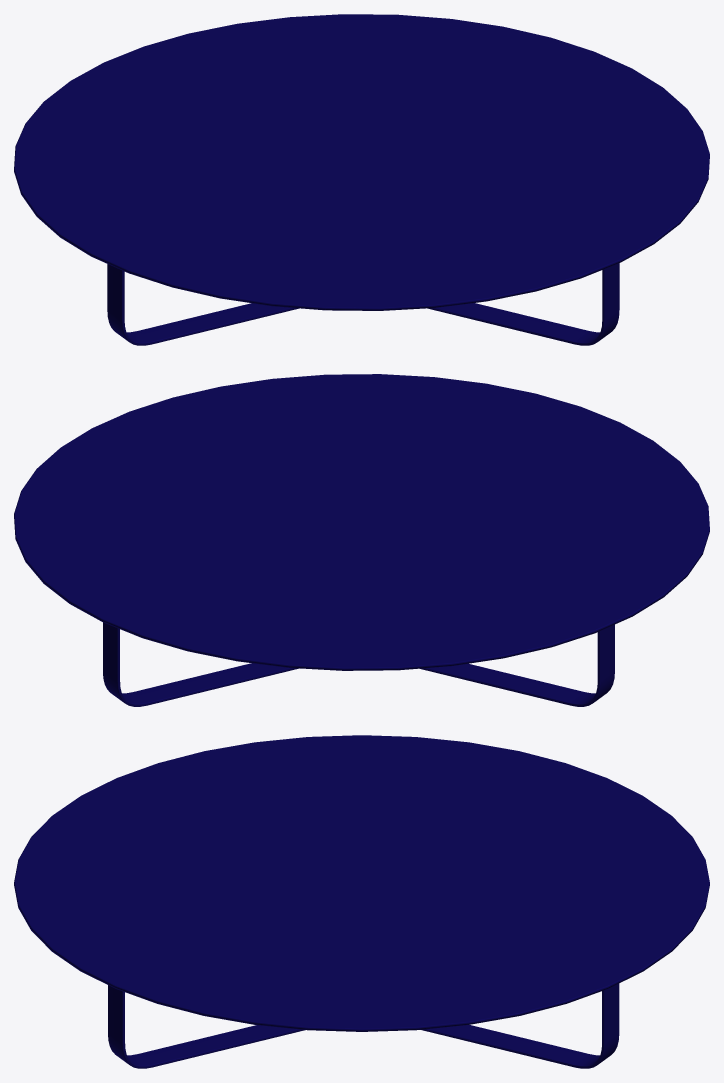
File: blue_table_1m.glb
The picture shows the model from 3 angles, top to bottom: view 1: azimuth 30°, elevation 25°; view 2: azimuth 150°, elevation 25°; view 3: azimuth 270°, elevation 25°; orthographic projection.
Parts seen in each view (by area): view 1: Cylinder005; view 2: Cylinder005; view 3: Cylinder005.
Part boxes in pixels (left/top/right/bottom): Cylinder005: left=14, top=14, right=709, bottom=345; Cylinder005: left=14, top=374, right=709, bottom=706; Cylinder005: left=14, top=735, right=709, bottom=1068.
Size of the model in its own units: 1 by 0.2 by 1.
